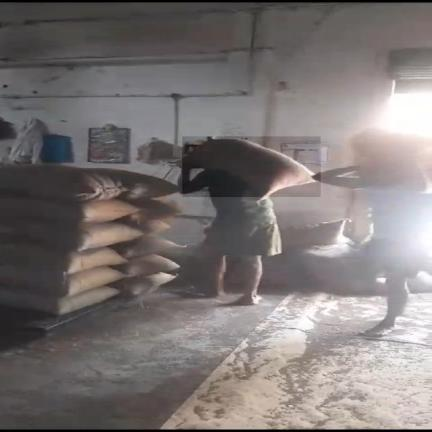Zone-Counting: (179, 137, 312, 304)
